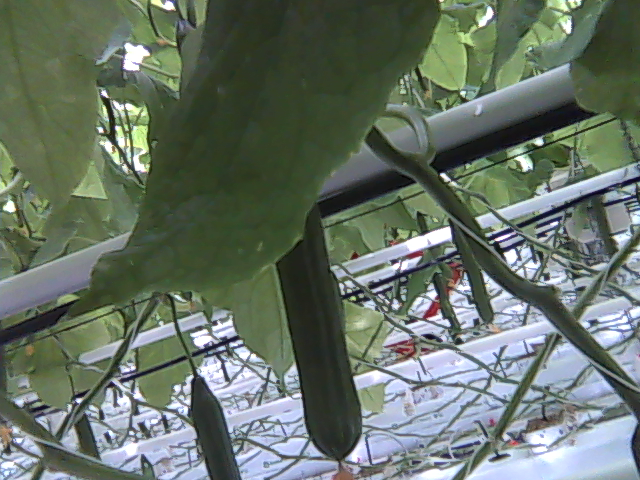concombre: (273, 202, 367, 480)
